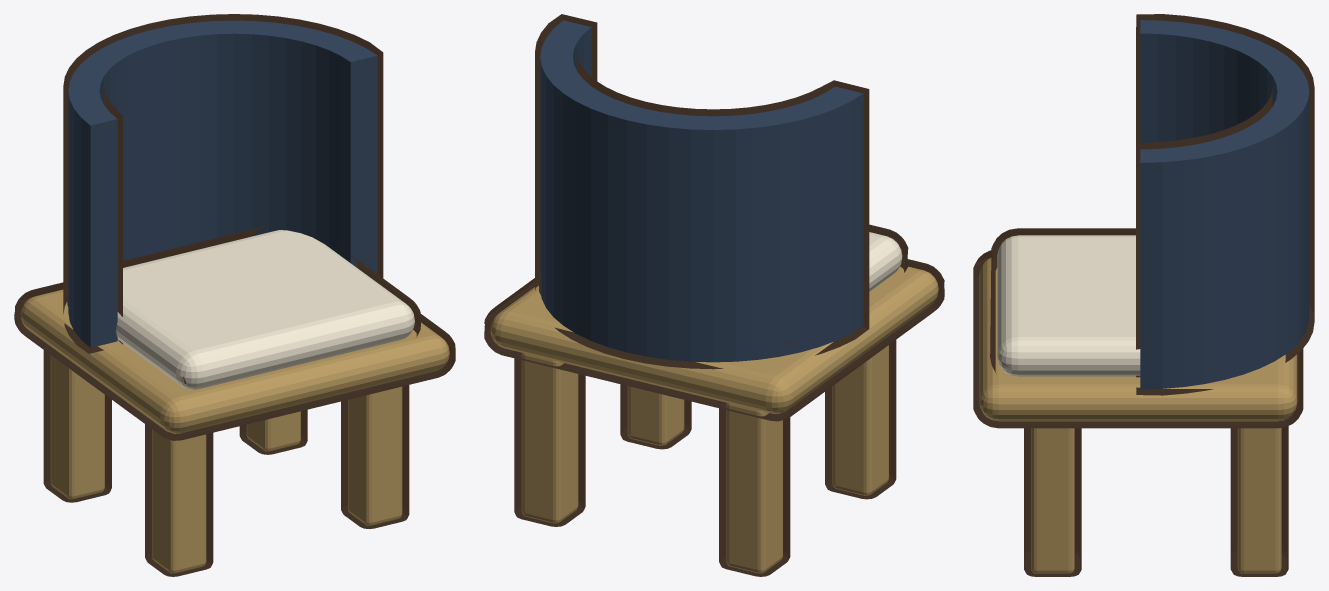
File: observatory-seat.glb
3 views of the same model, side by side, from view 1: azimuth 30°, elevation 25°; view 2: azimuth 150°, elevation 25°; view 3: azimuth 270°, elevation 25° (orthographic). The views are drawn at different scales.
Visible parts, largest first — view 1: observatory-seat, observatory-seat-outline; view 2: observatory-seat, observatory-seat-outline; view 3: observatory-seat, observatory-seat-outline.
Part boxes in pixels (left/top/right/bottom): observatory-seat: left=20, top=20, right=449, bottom=573; observatory-seat-outline: left=14, top=14, right=455, bottom=576; observatory-seat: left=490, top=20, right=938, bottom=573; observatory-seat-outline: left=484, top=14, right=944, bottom=576; observatory-seat: left=979, top=20, right=1309, bottom=573; observatory-seat-outline: left=973, top=14, right=1314, bottom=576.
Bounding box in the file's own units: 0.8793 × 1.2 × 0.8576.
